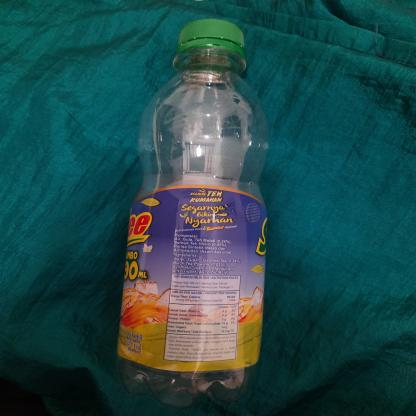bottle: (110, 12, 274, 412)
